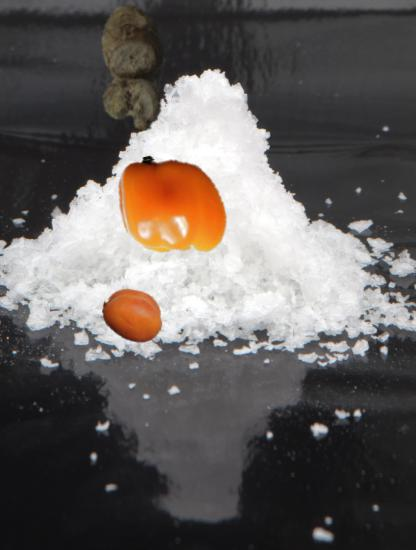Apricot: (102, 285, 163, 346)
Ginger: (66, 4, 196, 134)
Pepper: (118, 152, 226, 260)
